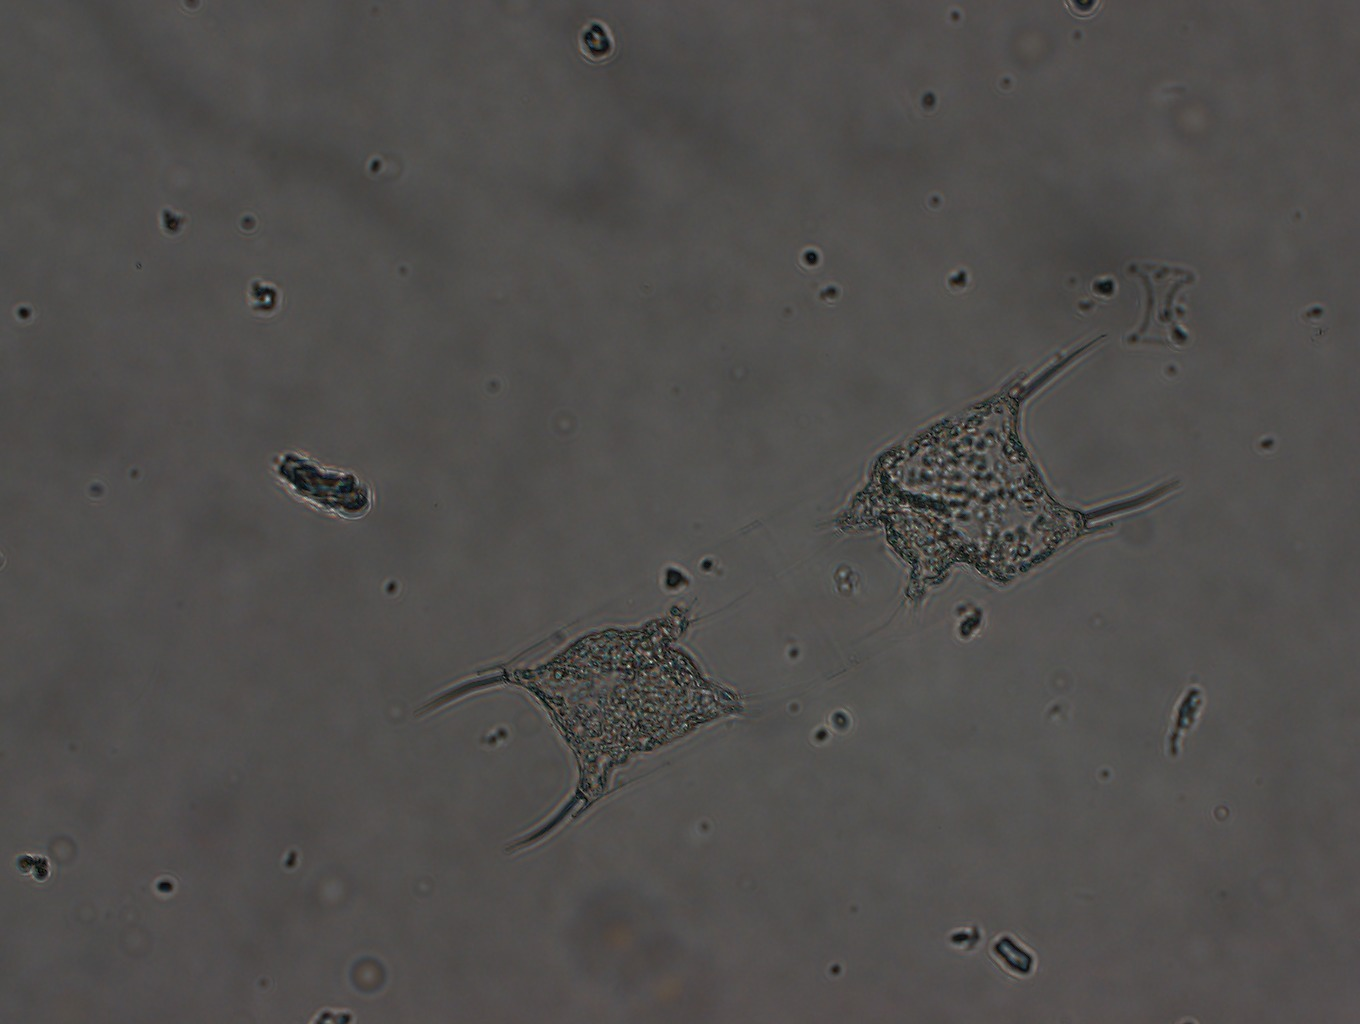biddulphia: (405, 313, 1187, 861)
